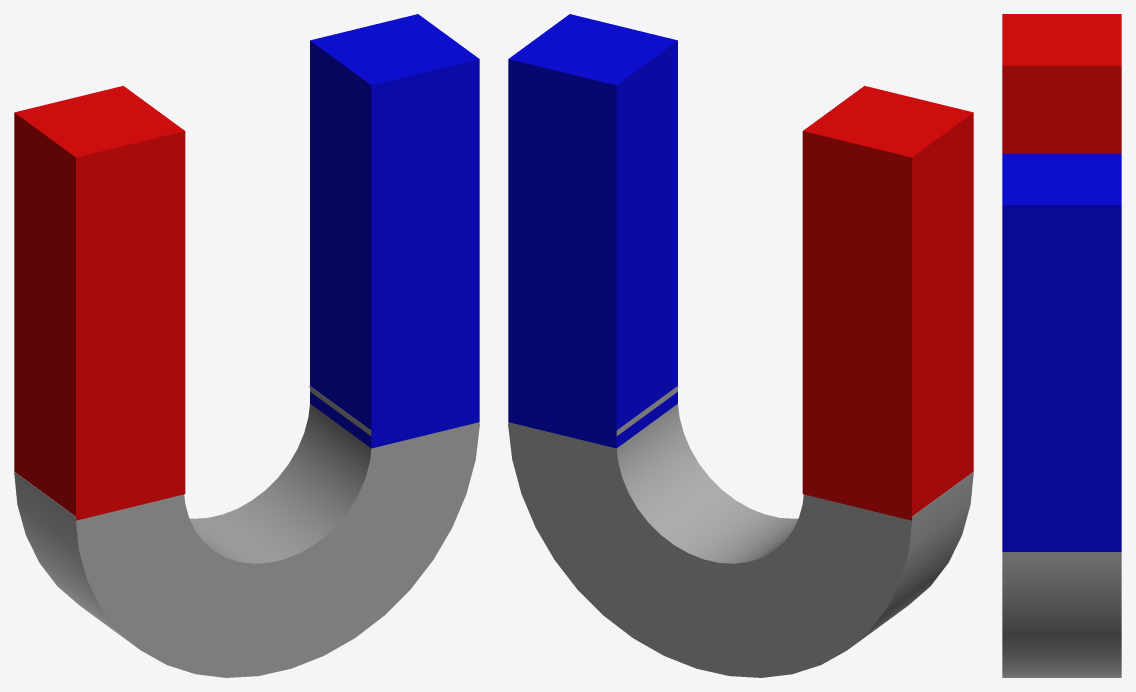
The model's file is Magnet.fbx.
3 views of the same model, side by side, from view 1: azimuth 30°, elevation 25°; view 2: azimuth 150°, elevation 25°; view 3: azimuth 270°, elevation 25° (orthographic). The views are drawn at different scales.
Parts seen in each view (by area): view 1: pCube5; view 2: pCube5; view 3: pCube5.
Part boxes in pixels (left/top/right/bottom): pCube5: left=14, top=14, right=479, bottom=677; pCube5: left=508, top=14, right=973, bottom=677; pCube5: left=1002, top=14, right=1121, bottom=677.
Size of the model in its own units: 2.11 by 2.82 by 0.559.
